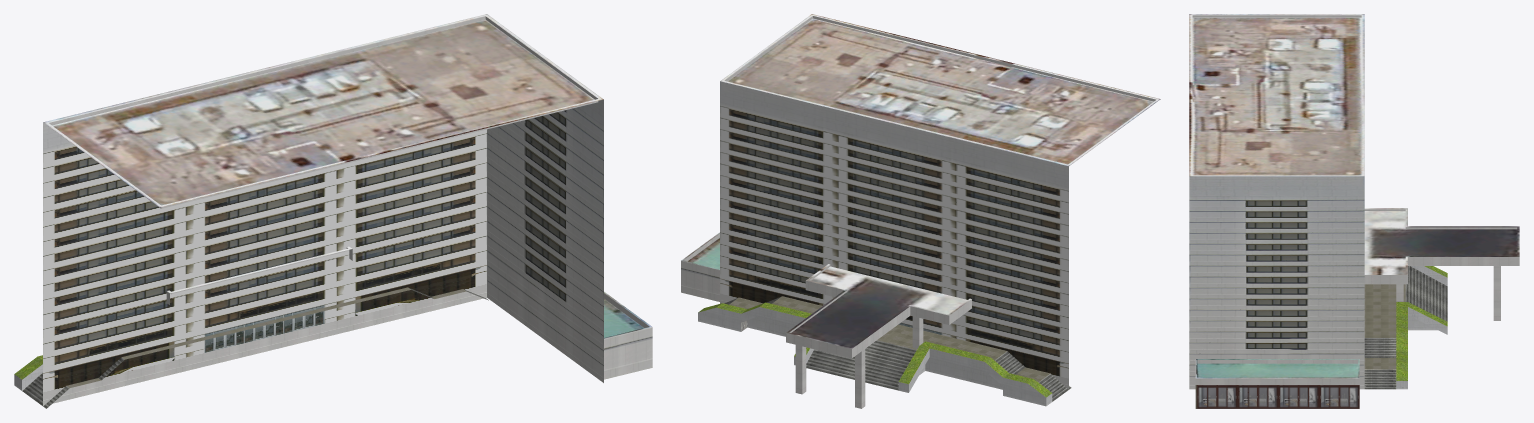
Rendered from BuildingArescaled2.fbx.
3 renders of one model, left to right at view 1: azimuth 30°, elevation 25°; view 2: azimuth 150°, elevation 25°; view 3: azimuth 270°, elevation 25°, orthographic. The views are drawn at different scales.
Visible parts, largest first — view 1: JKT_MTP_61.001, JKT_MTP_61.005, JKT_MTP_61.002, JKT_MTP_61, JKT_MTP_61.003; view 2: JKT_MTP_61.001, JKT_MTP_61, JKT_MTP_61.002, JKT_MTP_61.003, JKT_MTP_61.005, JKT_MTP_61.007, JKT_MTP_61.009, JKT_MTP_61.008; view 3: JKT_MTP_61.001, JKT_MTP_61.005, JKT_MTP_61, JKT_MTP_61.002, JKT_MTP_61.007, JKT_MTP_61.008, JKT_MTP_61.003.
Part boxes in pixels (left/top/right/bottom): JKT_MTP_61.001: left=43, top=14, right=603, bottom=405; JKT_MTP_61.005: left=490, top=291, right=652, bottom=379; JKT_MTP_61.002: left=22, top=287, right=488, bottom=408; JKT_MTP_61: left=166, top=246, right=352, bottom=304; JKT_MTP_61.003: left=14, top=355, right=42, bottom=390; JKT_MTP_61.001: left=720, top=14, right=1160, bottom=389; JKT_MTP_61: left=786, top=264, right=971, bottom=358; JKT_MTP_61.002: left=724, top=296, right=1071, bottom=401; JKT_MTP_61.003: left=898, top=341, right=1052, bottom=406; JKT_MTP_61.005: left=681, top=232, right=719, bottom=301; JKT_MTP_61.007: left=698, top=302, right=813, bottom=365; JKT_MTP_61.009: left=855, top=349, right=865, bottom=408; JKT_MTP_61.008: left=795, top=345, right=806, bottom=394; JKT_MTP_61.001: left=1189, top=14, right=1364, bottom=389; JKT_MTP_61.005: left=1195, top=359, right=1359, bottom=408; JKT_MTP_61: left=1364, top=208, right=1519, bottom=284; JKT_MTP_61.002: left=1364, top=266, right=1447, bottom=389; JKT_MTP_61.007: left=1396, top=302, right=1447, bottom=389; JKT_MTP_61.008: left=1493, top=266, right=1500, bottom=320; JKT_MTP_61.003: left=1410, top=266, right=1447, bottom=285.
Bounding box in the file's own units: 1305 × 714 × 1002.
